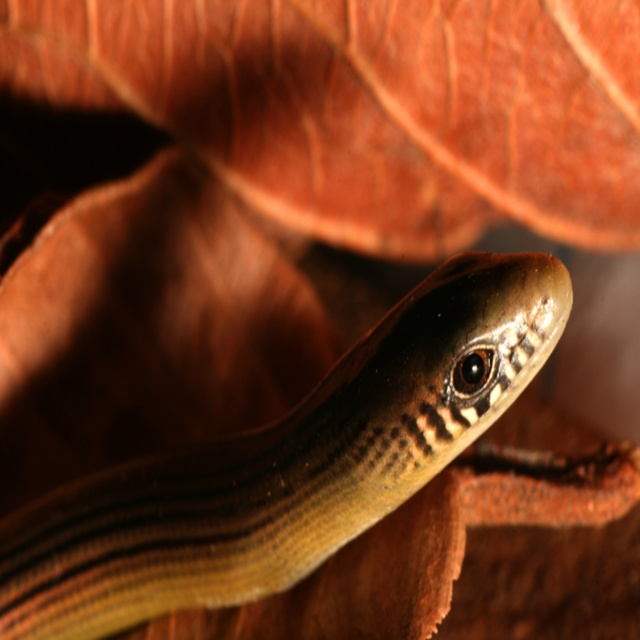Snake: (2, 248, 576, 639)
